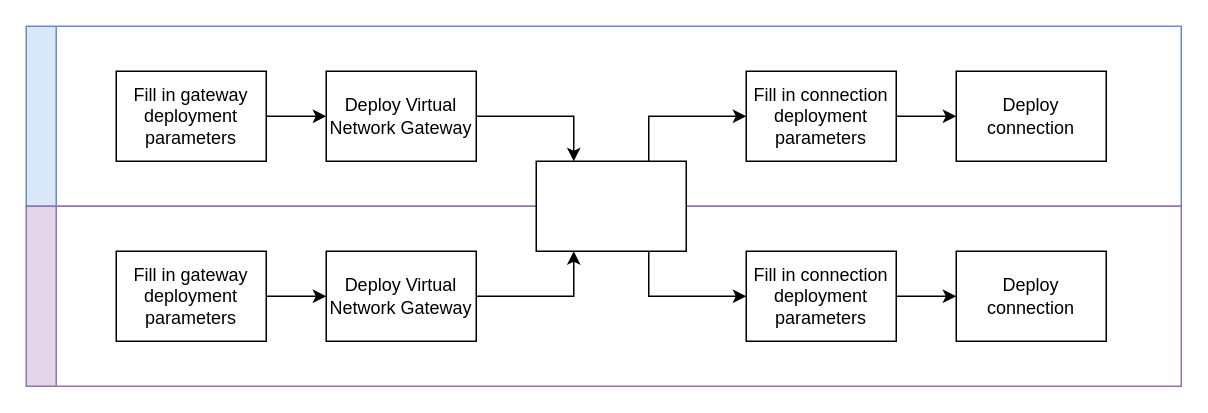
Some shapes in this 1208 by 413 pixel diagram are drawn without their labels. Here are the shapes that lost their labels. From the top down, the box of each, then its label:
(25, 25, 1181, 206): Tenant 1
(535, 160, 686, 251): Exchange gateway Ids and agree on shared key
(25, 205, 1181, 386): Tenant 2
